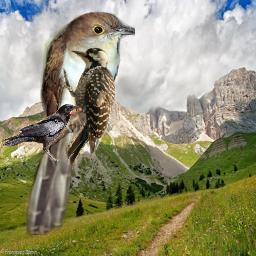Crow: (1, 102, 89, 161)
Cuckoo: (26, 10, 135, 235)
Woodpecker: (59, 44, 116, 172)
